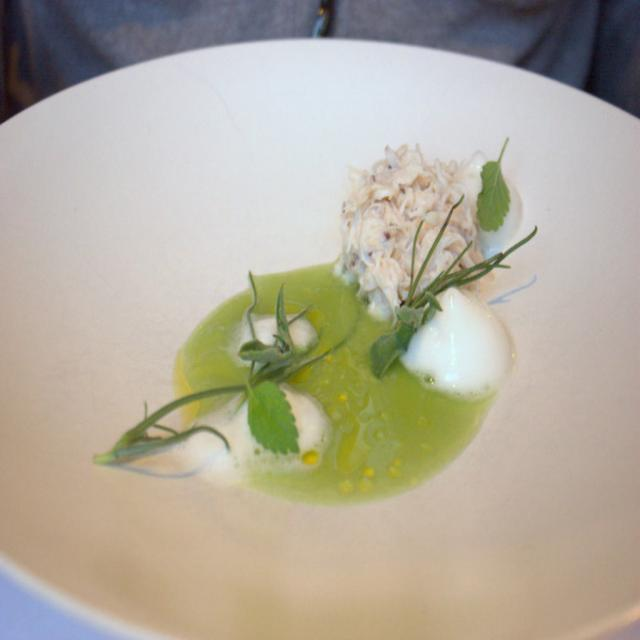ceramic plate: (0, 35, 627, 640)
